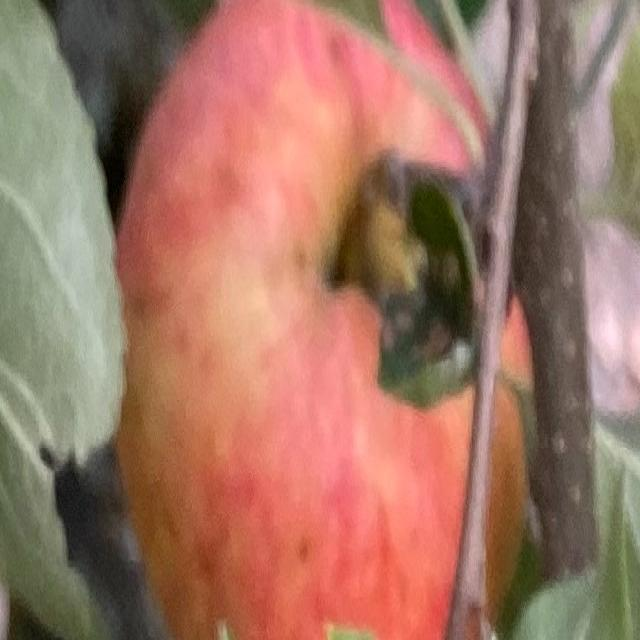100-_ripeness: (119, 0, 534, 640)
